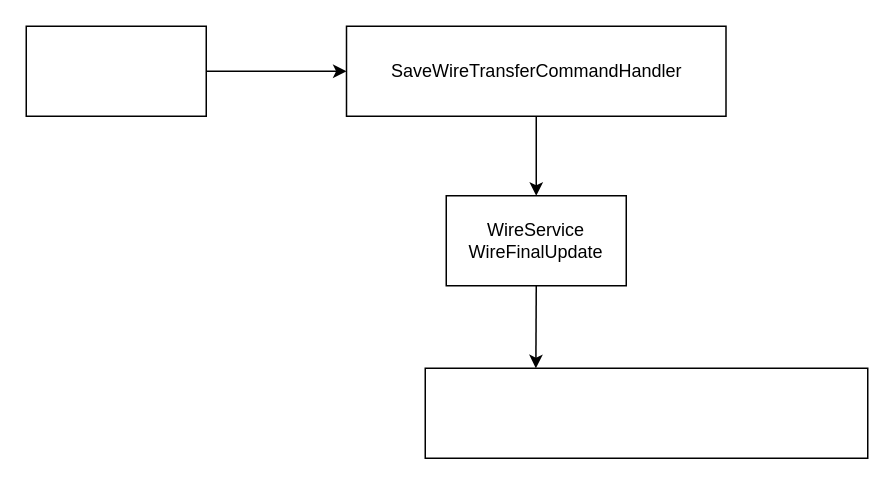
Image size: 894x485. Some labels were removed from this diagram. The centre of each missing label's shape, as x and y in pixels:
SP WebApi_WireFinalUpdate_withPayerWireExpiration: (646,412)
Wire API POST /api/wire: (115,70)
